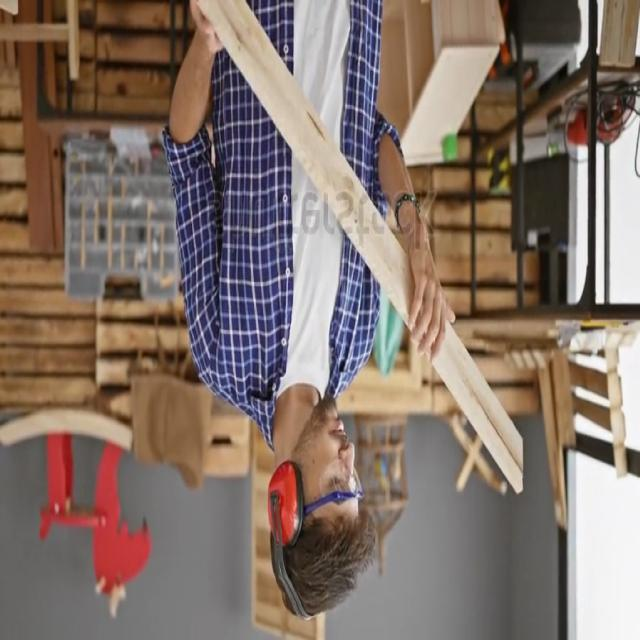goggles: (304, 458, 364, 513)
